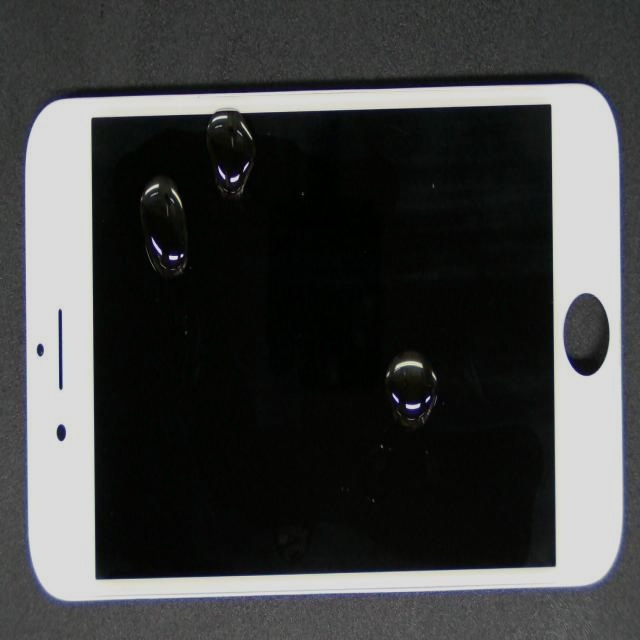oil: (236, 182, 635, 537), (125, 94, 382, 230), (108, 112, 259, 287)
